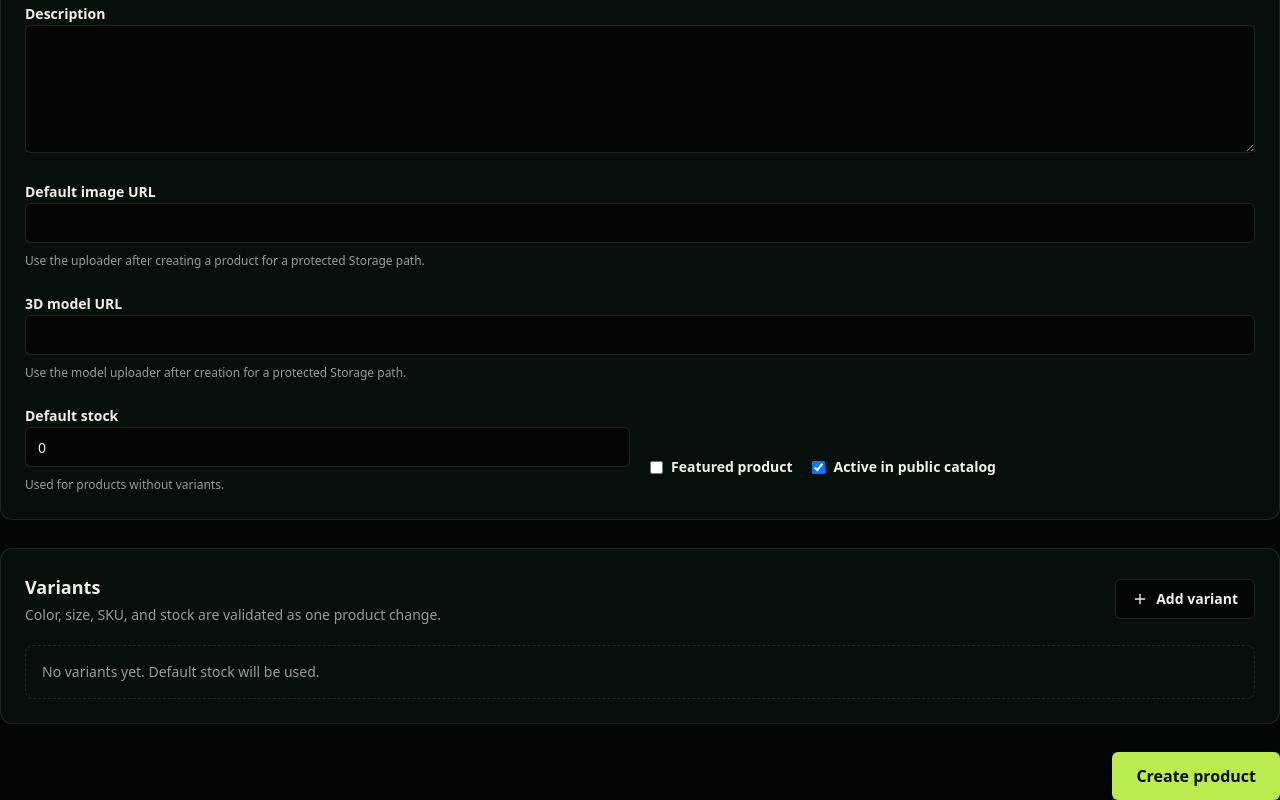
ProductForm › lets an admin add and remove a variant row before save
(page scrolled)
Click the button "Add variant" at coordinates (1185, 599), box [1115, 579, 1255, 619]
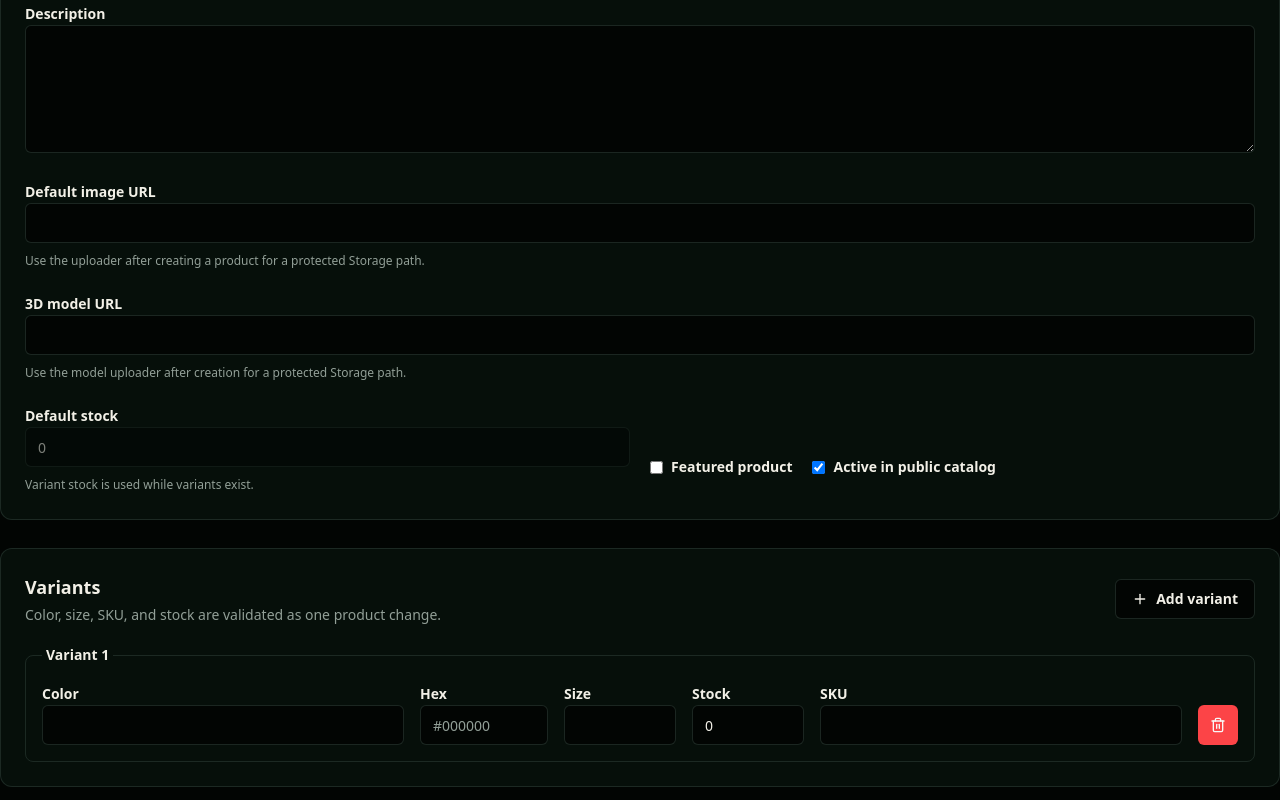
Now the button named "Remove variant 1" is shown
Now the text "Variant 1" is shown, box [42, 645, 113, 665]
Click the button named "Remove variant 1" at coordinates (1218, 725), box [1198, 705, 1238, 745]
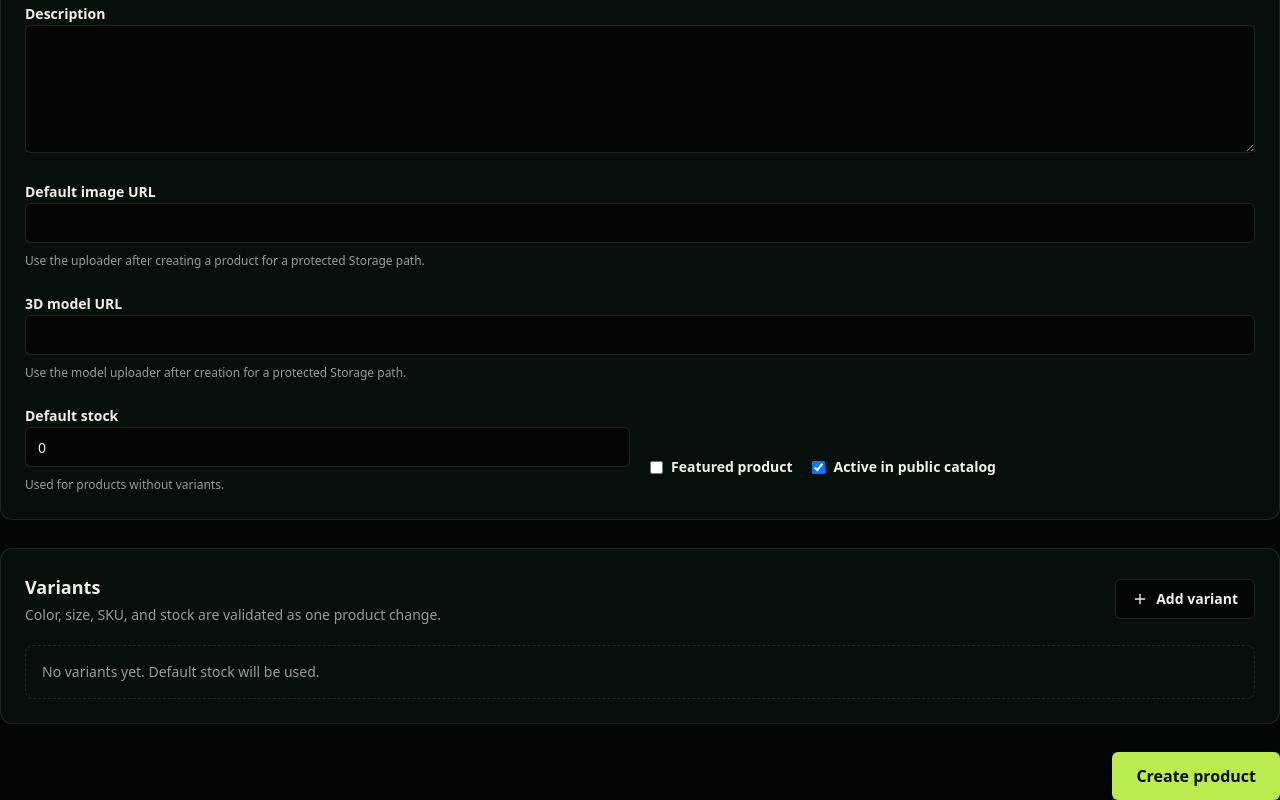
Now the text "Variant 1" is gone
Now the text "No variants yet. Default stock will be used." is shown, box [25, 645, 1255, 699]
